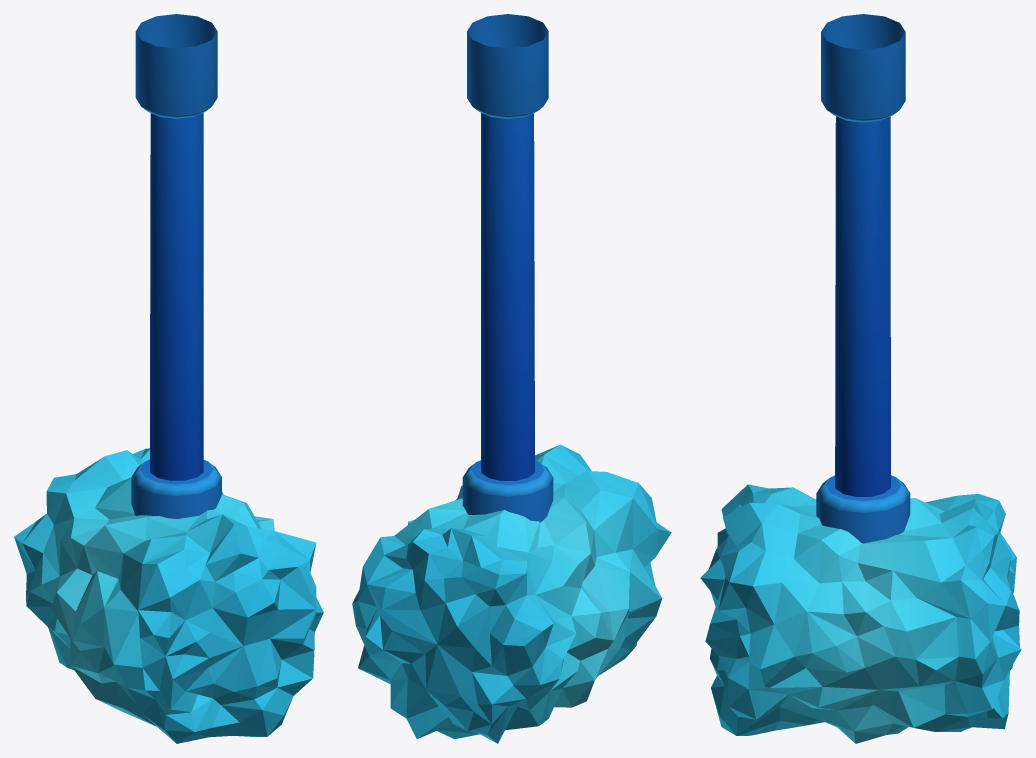
The model's file is obstacle_11_002.fbx.
The picture shows the model from 3 angles, left to right: view 1: azimuth 30°, elevation 25°; view 2: azimuth 150°, elevation 25°; view 3: azimuth 270°, elevation 25°; orthographic projection. The views are drawn at different scales.
Visible parts, largest first — view 1: obstacle_11_002; view 2: obstacle_11_002; view 3: obstacle_11_002.
Boxes of the visible parts, x1,y1,x2,y2 form: obstacle_11_002: (14,14,323,743); obstacle_11_002: (352,14,671,743); obstacle_11_002: (700,14,1021,743).
Bounding box in the file's own units: 152 × 194 × 465.
